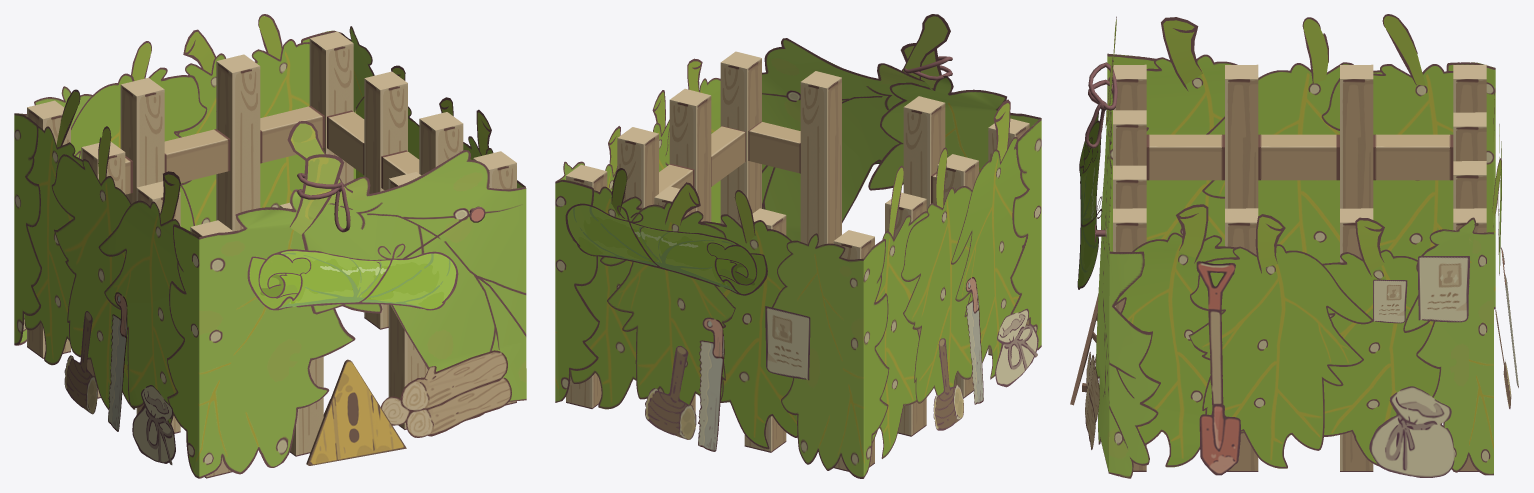
The model's file is Mesh_Home_Construction_33_SM.fbx.
The picture shows the model from 3 angles, left to right: view 1: azimuth 30°, elevation 25°; view 2: azimuth 150°, elevation 25°; view 3: azimuth 270°, elevation 25°; orthographic projection. The views are drawn at different scales.
Parts seen in each view (by area): view 1: Mesh_Home_Construction_33, Mesh_Home_Construction_33_P; view 2: Mesh_Home_Construction_33, Mesh_Home_Construction_33_P; view 3: Mesh_Home_Construction_33_P, Mesh_Home_Construction_33.
Part boxes in pixels (box(x1,y1,x2,y2)): Mesh_Home_Construction_33: box(14, 26, 526, 478); Mesh_Home_Construction_33_P: box(24, 14, 511, 464); Mesh_Home_Construction_33: box(555, 38, 1041, 478); Mesh_Home_Construction_33_P: box(565, 14, 1038, 458); Mesh_Home_Construction_33_P: box(1077, 14, 1518, 477); Mesh_Home_Construction_33: box(1070, 53, 1495, 478).
Bounding box in the file's own units: 304 × 283 × 327.
Materials: 1 (1 with a texture image).
